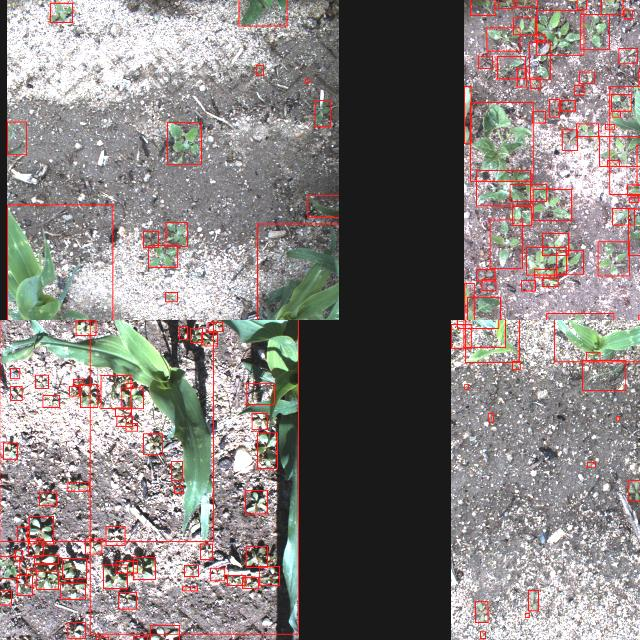crop: (89, 320, 298, 634), (0, 320, 213, 541), (6, 204, 112, 320), (257, 223, 339, 320), (470, 101, 532, 180), (554, 320, 640, 361), (609, 86, 640, 194), (464, 320, 518, 361), (307, 195, 339, 216), (7, 122, 26, 154), (456, 320, 498, 328)
weed: (536, 10, 584, 54), (476, 170, 530, 204), (489, 220, 521, 268), (167, 122, 201, 164), (581, 360, 625, 390), (532, 188, 572, 220), (598, 136, 640, 166), (239, 0, 287, 25), (526, 246, 566, 274), (463, 320, 505, 346), (598, 241, 628, 275), (100, 374, 130, 408), (580, 14, 608, 48), (528, 41, 550, 79), (466, 296, 499, 320), (257, 432, 277, 468), (486, 28, 518, 50), (28, 516, 52, 544), (148, 245, 178, 267), (508, 183, 546, 200), (556, 249, 582, 273), (496, 56, 524, 78), (246, 382, 274, 403), (103, 564, 127, 588), (542, 233, 568, 255), (628, 208, 640, 255), (165, 221, 187, 245), (133, 556, 155, 580), (245, 491, 267, 514), (48, 2, 72, 22), (62, 558, 86, 578), (450, 324, 470, 348), (149, 624, 178, 640), (245, 546, 267, 566), (121, 388, 143, 408), (0, 555, 19, 578), (34, 571, 58, 589), (314, 100, 330, 126), (142, 434, 162, 454), (79, 384, 97, 406), (464, 86, 471, 142), (60, 582, 84, 598), (463, 282, 473, 320), (469, 0, 494, 15), (612, 208, 634, 225), (511, 206, 531, 224), (259, 566, 279, 584), (513, 18, 535, 34), (106, 526, 124, 544), (610, 94, 630, 110), (16, 574, 32, 594), (562, 128, 576, 150), (474, 600, 488, 622), (67, 621, 85, 637), (118, 592, 136, 608), (600, 0, 622, 13), (75, 320, 95, 334), (627, 479, 640, 500), (576, 124, 598, 136), (142, 231, 158, 247), (251, 413, 267, 429), (85, 538, 101, 554), (618, 48, 636, 62), (115, 560, 136, 572), (38, 491, 56, 505), (2, 442, 16, 460), (28, 538, 42, 556), (170, 460, 182, 480), (201, 332, 217, 346), (533, 268, 553, 278), (528, 590, 538, 610), (34, 374, 48, 388), (476, 55, 492, 67), (242, 576, 258, 588), (200, 543, 212, 559), (42, 395, 58, 407), (33, 554, 57, 562), (227, 575, 246, 585), (476, 270, 494, 280), (549, 98, 559, 116), (516, 68, 526, 86), (68, 482, 88, 491), (481, 278, 495, 290), (210, 568, 224, 580), (184, 564, 198, 576), (190, 328, 202, 342), (636, 144, 640, 184), (578, 72, 594, 82), (116, 415, 132, 425), (115, 406, 131, 416), (35, 563, 55, 571), (25, 569, 35, 585), (0, 589, 10, 604), (515, 0, 536, 7), (532, 110, 544, 122), (520, 280, 534, 290), (560, 100, 574, 110), (208, 321, 222, 331), (10, 386, 20, 400), (16, 526, 26, 540), (627, 184, 640, 194), (165, 291, 177, 301), (178, 326, 188, 338), (542, 277, 556, 285), (497, 0, 513, 7), (585, 351, 599, 359), (573, 85, 583, 95), (68, 386, 78, 396), (9, 368, 19, 378), (530, 76, 538, 88), (125, 422, 137, 430), (576, 0, 586, 9), (255, 65, 263, 75), (622, 10, 632, 18), (14, 550, 22, 560), (511, 360, 519, 370), (607, 160, 619, 166), (72, 379, 84, 385), (182, 586, 198, 590), (174, 486, 182, 494), (610, 110, 620, 116), (604, 123, 614, 129), (534, 34, 544, 40), (133, 636, 147, 640), (630, 196, 638, 202), (96, 636, 108, 640), (125, 382, 133, 388), (488, 412, 492, 422), (480, 630, 484, 638), (586, 462, 594, 466), (524, 612, 528, 616), (464, 384, 468, 388), (304, 80, 310, 82), (616, 416, 618, 420)
